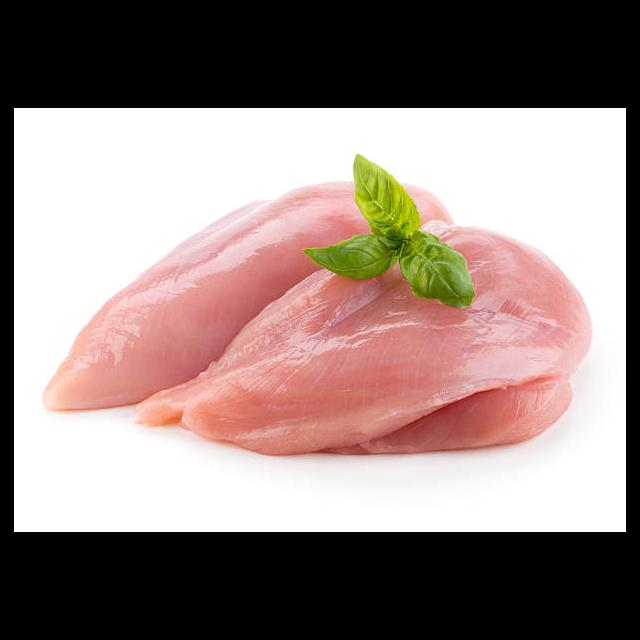chicken: (45, 182, 594, 452)
